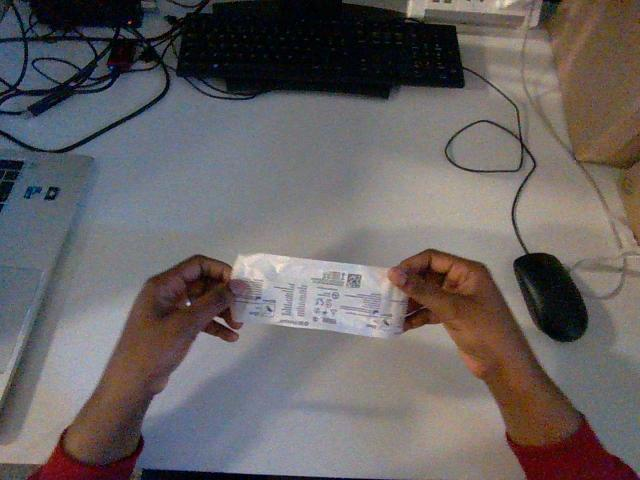syringe: (232, 254, 407, 337)
